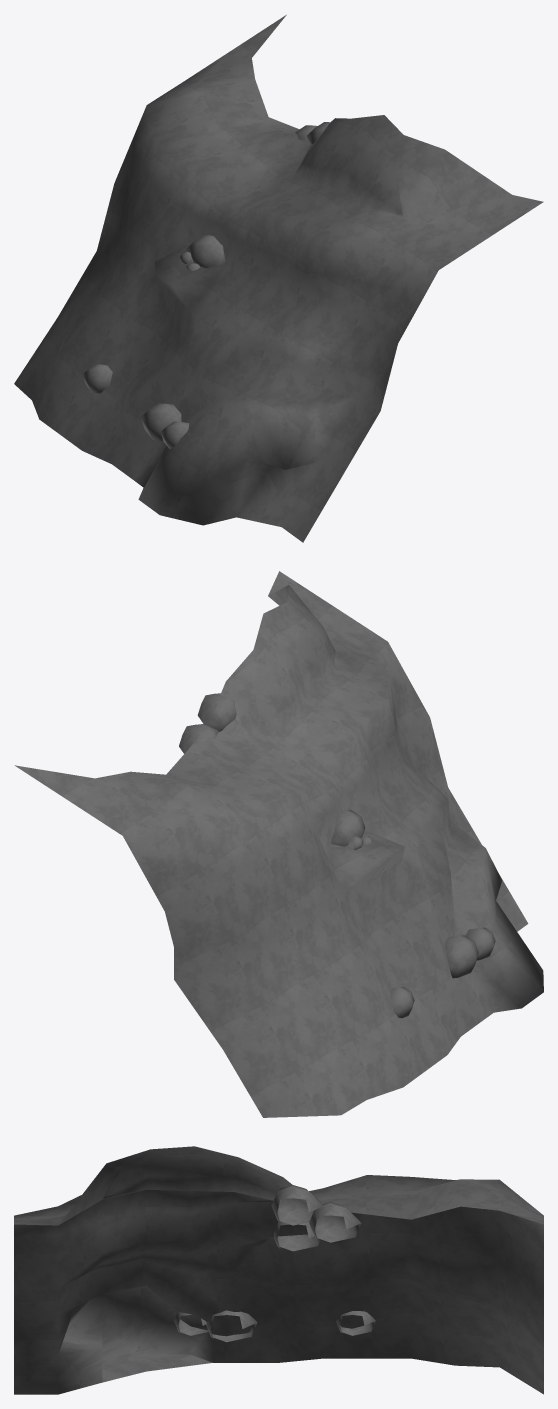
The model's file is gora2.fbx.
3 renders of one model, top to bottom at view 1: azimuth 30°, elevation 25°; view 2: azimuth 150°, elevation 25°; view 3: azimuth 270°, elevation 25°, orthographic. The views are drawn at different scales.
Parts seen in each view (by area): view 1: Plane.026, Cube.010, Cube.013, Cube.012; view 2: Plane.026, Cube.010, Cube.015, Cube.013, Cube.016; view 3: Plane.026, Cube.016, Cube.015, Cube.013, Cube.010, Cube.012, Cube.011.
Boxes of the visible parts, box(x1,y1,x2,y2) form: Plane.026: box(14, 14, 543, 542); Cube.010: box(141, 403, 181, 441); Cube.013: box(186, 235, 225, 267); Cube.012: box(82, 364, 112, 393); Plane.026: box(14, 571, 543, 1117); Cube.010: box(445, 935, 478, 978); Cube.015: box(197, 693, 236, 731); Cube.013: box(331, 810, 365, 846); Cube.016: box(179, 724, 218, 753); Plane.026: box(14, 1146, 543, 1394); Cube.016: box(309, 1202, 361, 1242); Cube.015: box(271, 1185, 323, 1225); Cube.013: box(273, 1221, 320, 1251); Cube.010: box(206, 1310, 257, 1342); Cube.012: box(336, 1311, 375, 1335); Cube.011: box(174, 1312, 208, 1335).
Bounding box in the file's own units: 3241 × 3123 × 4500.
